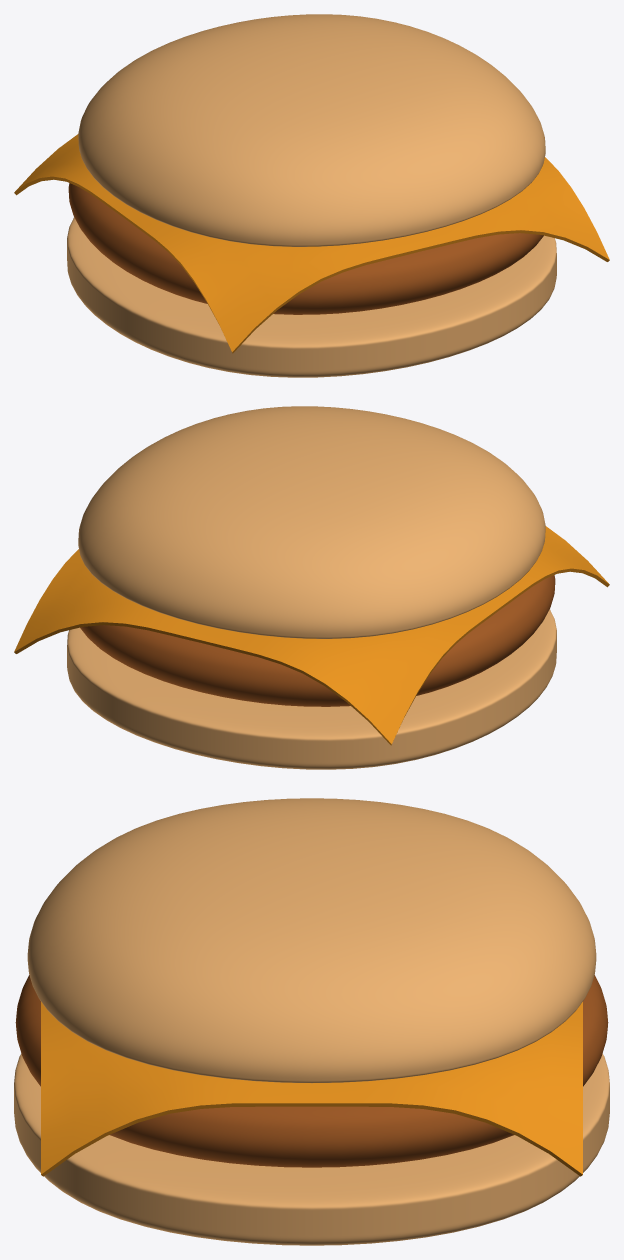
3 views of the same model, one above another, from view 1: azimuth 30°, elevation 25°; view 2: azimuth 150°, elevation 25°; view 3: azimuth 270°, elevation 25° (orthographic). The views are drawn at different scales.
Visible parts, largest first — view 1: 立方体.002, 立方体, 平面, 立方体.001; view 2: 立方体.002, 立方体, 平面, 立方体.001; view 3: 立方体.002, 立方体, 平面, 立方体.001.
Boxes of the visible parts, <box> form: 立方体.002: <box>78,14,545,246</box>; 立方体: <box>67,217,556,377</box>; 平面: <box>14,134,609,353</box>; 立方体.001: <box>68,183,543,314</box>; 立方体.002: <box>78,406,545,638</box>; 立方体: <box>67,609,556,769</box>; 平面: <box>14,526,609,745</box>; 立方体.001: <box>80,575,555,706</box>; 立方体.002: <box>27,798,596,1083</box>; 立方体: <box>14,1053,609,1245</box>; 平面: <box>41,1002,582,1176</box>; 立方体.001: <box>15,975,608,1167</box>.
Bounding box in the file's own units: 9.11 × 4.67 × 9.11.
